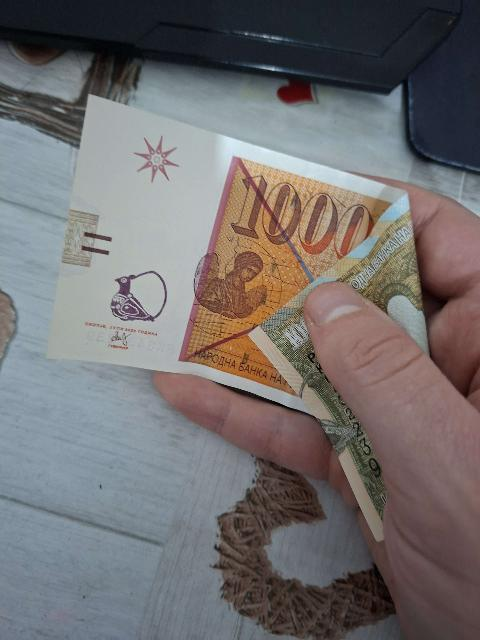1000_note: (27, 83, 441, 544)
